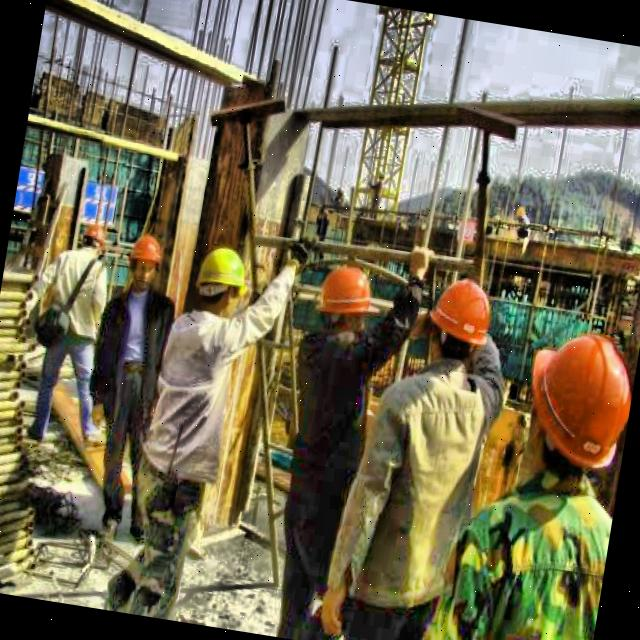helmet: (508, 315, 640, 510), (418, 268, 502, 378), (310, 255, 381, 344), (188, 238, 255, 328), (124, 228, 168, 296), (74, 212, 112, 268)
